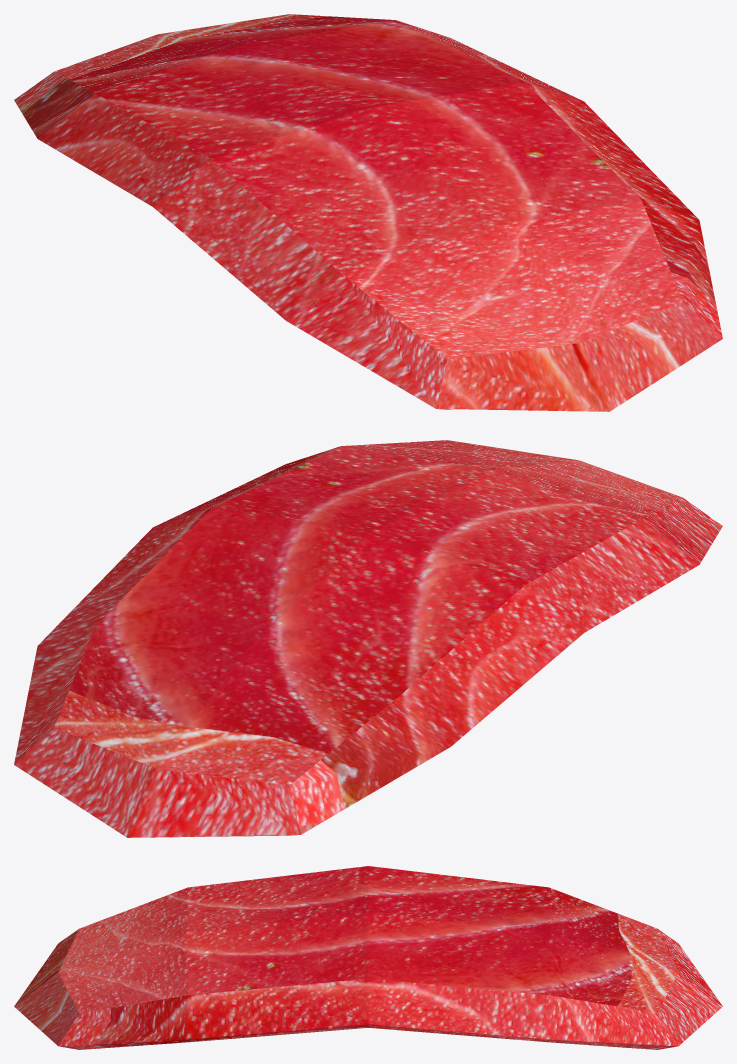
3 views of the same model, one above another, from view 1: azimuth 30°, elevation 25°; view 2: azimuth 150°, elevation 25°; view 3: azimuth 270°, elevation 25° (orthographic). The views are drawn at different scales.
Parts seen in each view (by area): view 1: 立方体.001; view 2: 立方体.001; view 3: 立方体.001.
Boxes of the visible parts, x1,y1,x2,y2 form: 立方体.001: [14, 14, 722, 411]; 立方体.001: [14, 440, 722, 837]; 立方体.001: [14, 866, 722, 1049].
Size of the model in its own units: 80.68 by 25.35 by 156.
Materials: 1 (1 with a texture image).
